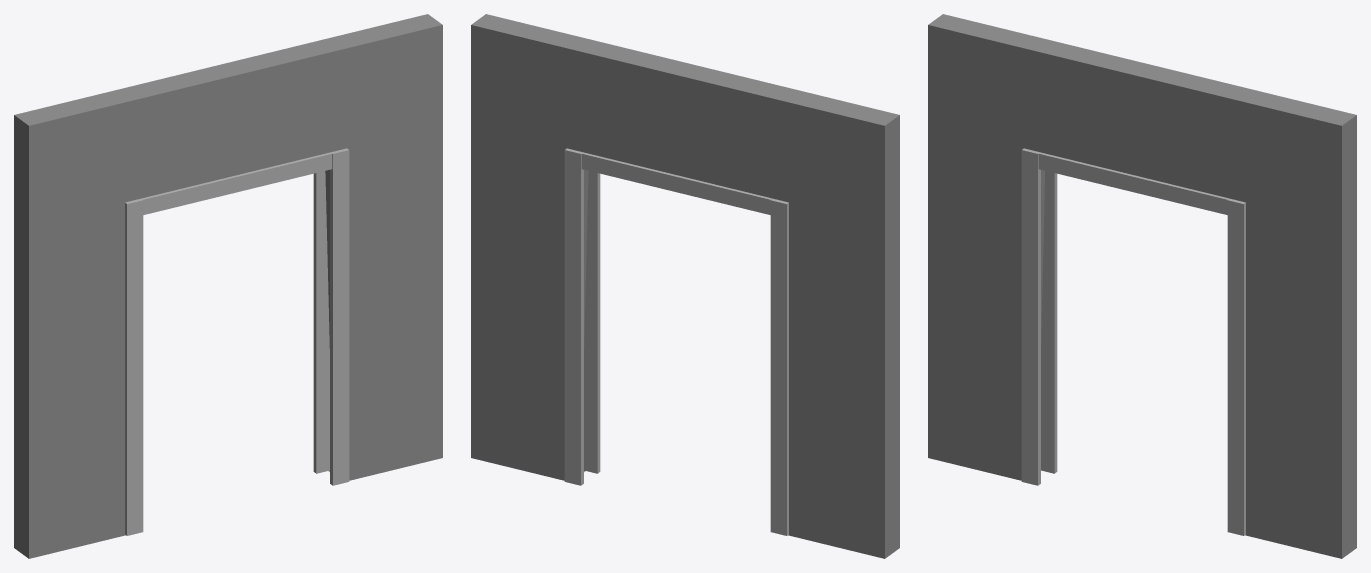
The model's file is pared con puerta.fbx.
3 renders of one model, left to right at view 1: azimuth 30°, elevation 25°; view 2: azimuth 150°, elevation 25°; view 3: azimuth 330°, elevation 25°, orthographic.
Visible parts, largest first — view 1: Pared con puerta.002; view 2: Pared con puerta.002; view 3: Pared con puerta.002.
Part boxes in pixels (x1,y1,x2,y2): Pared con puerta.002: [14, 14, 442, 558]; Pared con puerta.002: [471, 14, 899, 558]; Pared con puerta.002: [928, 14, 1356, 558].
Bounding box in the file's own units: 800 × 800 × 65.02.
